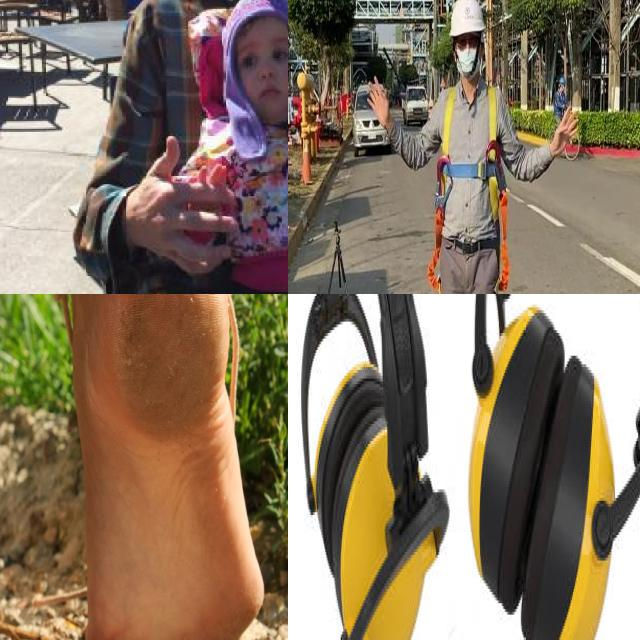Barefoots: (82, 294, 264, 640)
Ear-protection: (461, 294, 640, 640), (297, 294, 453, 640)
Harness: (428, 87, 511, 294)
No_Glasses: (231, 38, 288, 67)
face_nomask: (233, 44, 288, 105)
hand_noglove: (117, 134, 241, 276)
head_nohelmet: (221, 0, 288, 35)
person: (86, 0, 288, 294)
